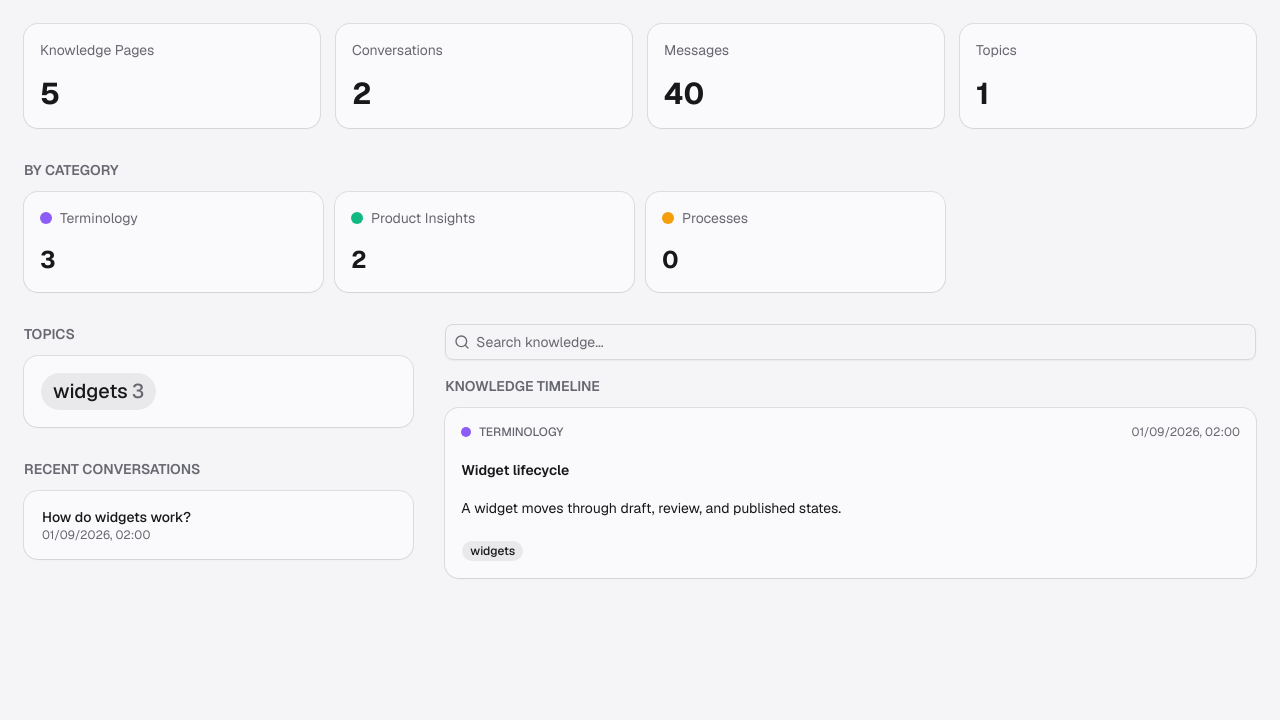
Test case: KnowledgeDashboard › renders the empty state, not a bare string, when a search finds nothing
expect the heading "Widget lifecycle" is shown: met, box [461, 461, 569, 479]
In the field labelled "Search knowledge": point(863, 342) [470, 324, 1255, 360], type "nothingmatches"
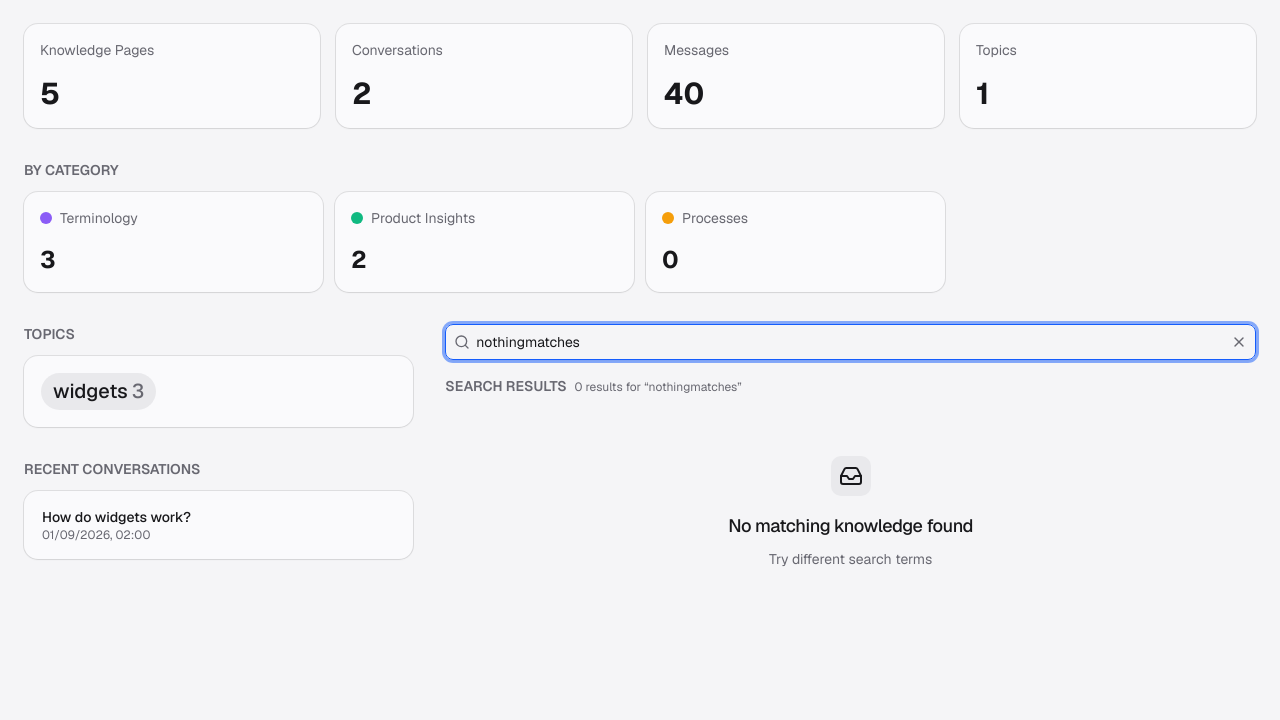
expect the text "No matching knowledge found" is shown: met, box [728, 514, 973, 537]
